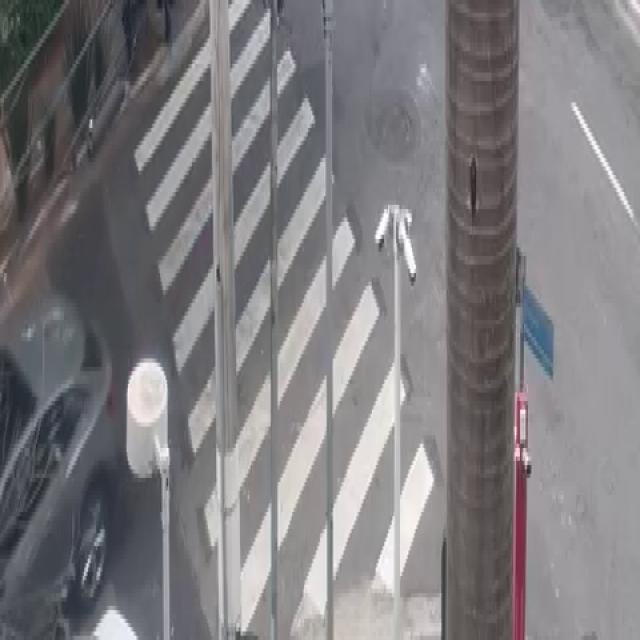car: (0, 281, 112, 640)
